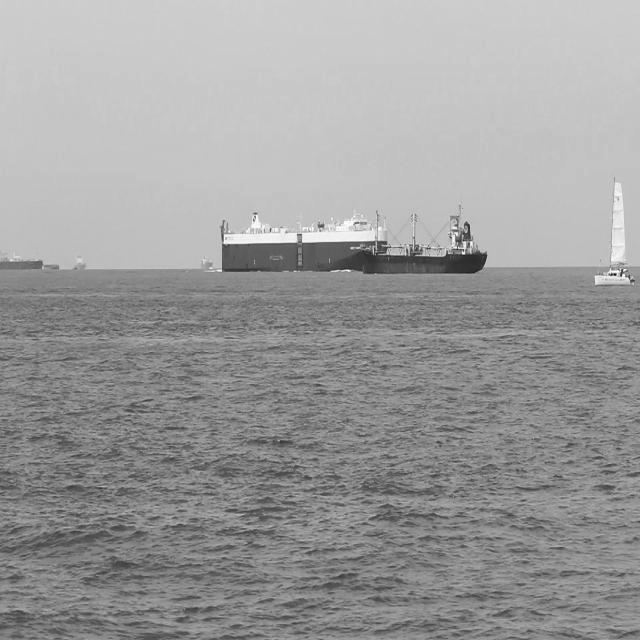ship: (216, 206, 390, 276), (357, 203, 491, 281), (592, 168, 636, 288), (0, 248, 47, 276), (70, 250, 88, 274), (199, 254, 214, 274)
